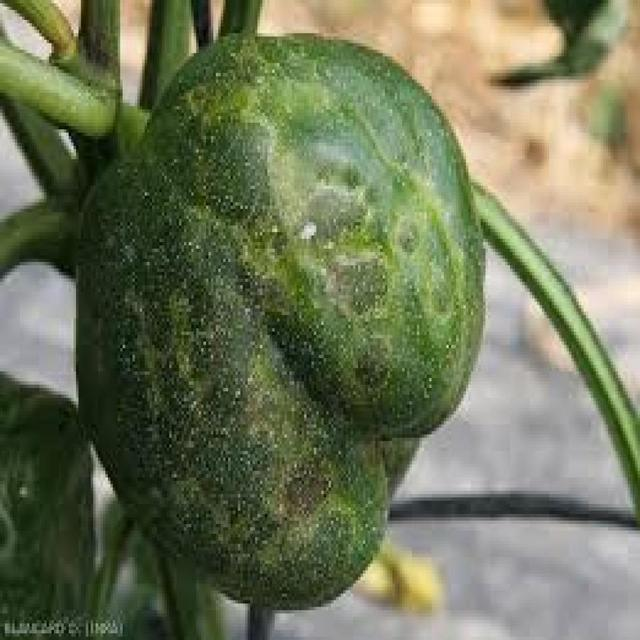Spotted wilt Virus Fruit: (51, 22, 324, 410)
